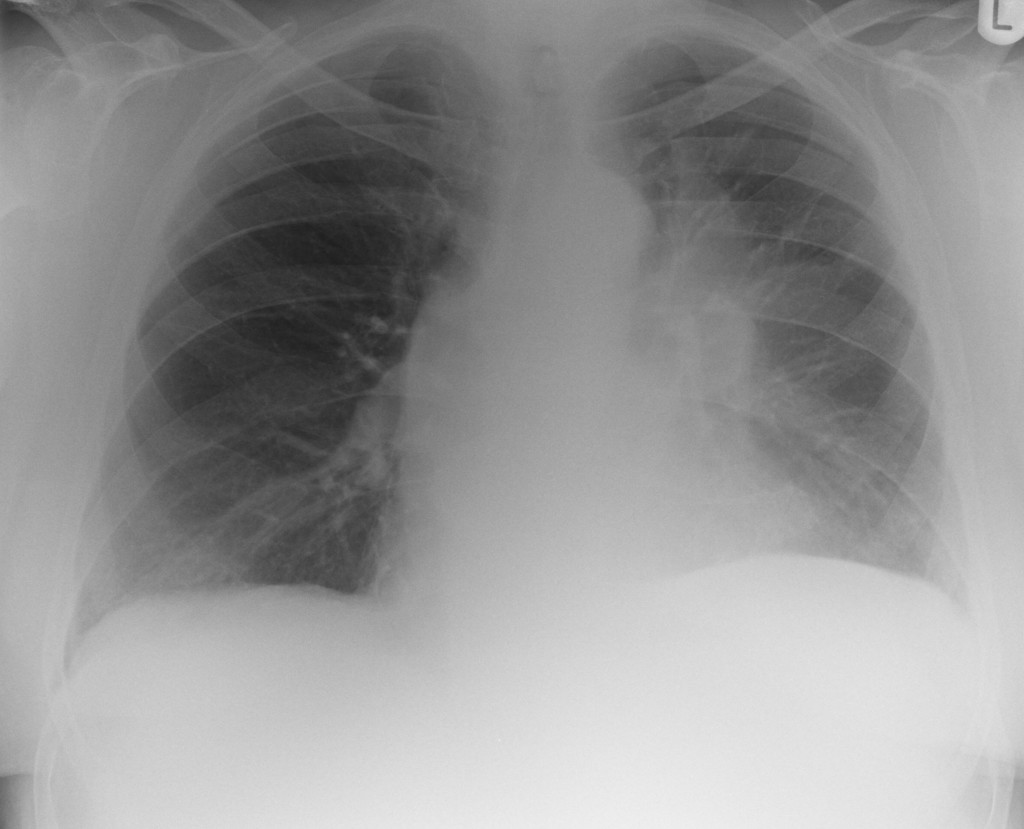cancer: (635, 126, 856, 585)
